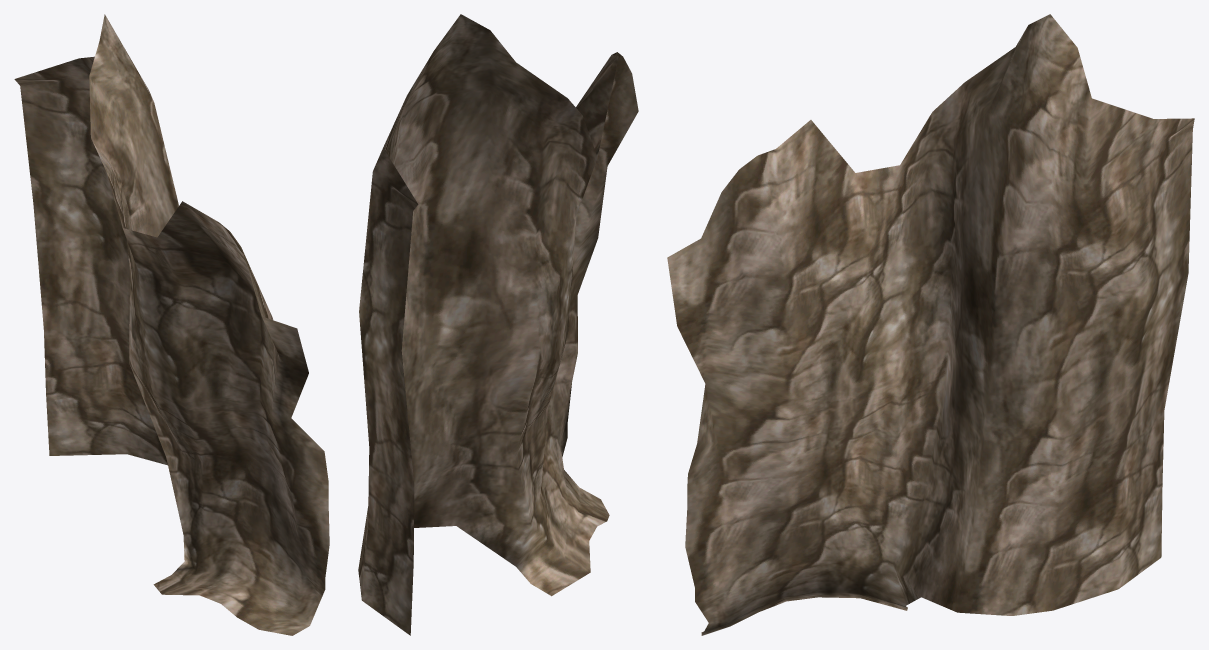
The model's file is EKH_ENTRANCE_PS_EN_ROCKWALL3493847.fbx.
3 renders of one model, left to right at view 1: azimuth 30°, elevation 25°; view 2: azimuth 150°, elevation 25°; view 3: azimuth 270°, elevation 25°, orthographic. The views are drawn at different scales.
Parts seen in each view (by area): view 1: EKH_ENTRANCE_PS_EN_ROCKWALL3493847; view 2: EKH_ENTRANCE_PS_EN_ROCKWALL3493847; view 3: EKH_ENTRANCE_PS_EN_ROCKWALL3493847.
Part boxes in pixels (x1,y1,x2,y2): EKH_ENTRANCE_PS_EN_ROCKWALL3493847: (14, 14, 329, 635); EKH_ENTRANCE_PS_EN_ROCKWALL3493847: (358, 14, 638, 635); EKH_ENTRANCE_PS_EN_ROCKWALL3493847: (667, 14, 1194, 635).
Bounding box in the file's own units: 56275 × 191243 × 152173.
Materials: 1 (1 with a texture image).
